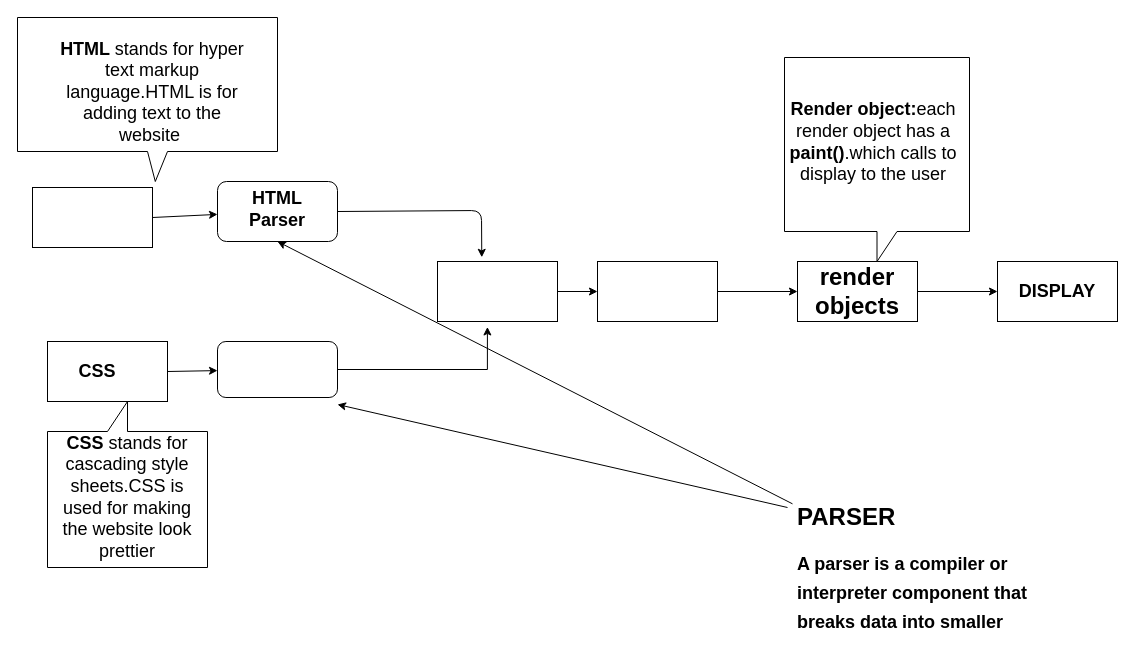
This 1135x655 diagram has some shape labels left out. Here are the shapes that lost their labels. From the top down, the centre of each, then its label:
At (x=92, y=217): "HTML".
At (x=497, y=291): "Attachments".
At (x=657, y=291): "paint()".
At (x=277, y=369): "CSS Parser".
